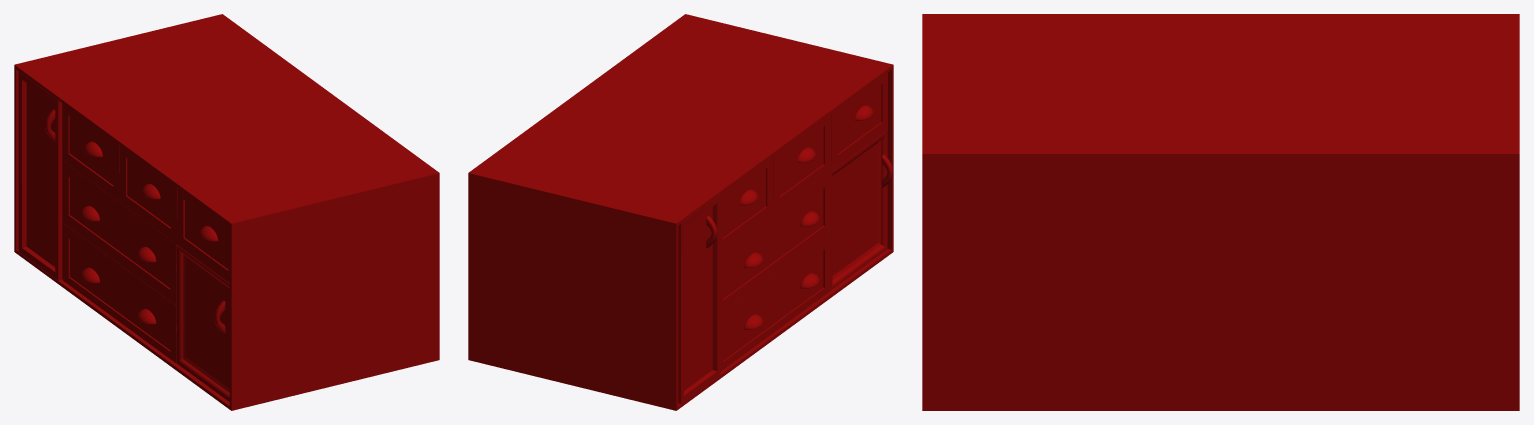
Rendered from desk_high.fbx.
3 renders of one model, left to right at view 1: azimuth 30°, elevation 25°; view 2: azimuth 150°, elevation 25°; view 3: azimuth 270°, elevation 25°, orthographic. The views are drawn at different scales.
Parts seen in each view (by area): view 1: high_poly; view 2: high_poly; view 3: high_poly.
Part boxes in pixels (x1,y1,x2,y2): high_poly: (14, 14, 439, 410); high_poly: (468, 14, 893, 410); high_poly: (922, 14, 1519, 410).
Size of the model in its own units: 116 by 96.73 by 203.
